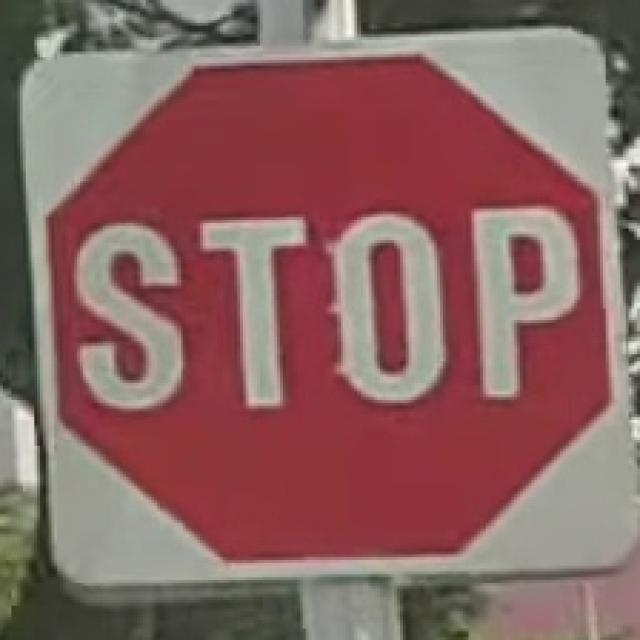mandatorystop_sign: (14, 29, 637, 594)
